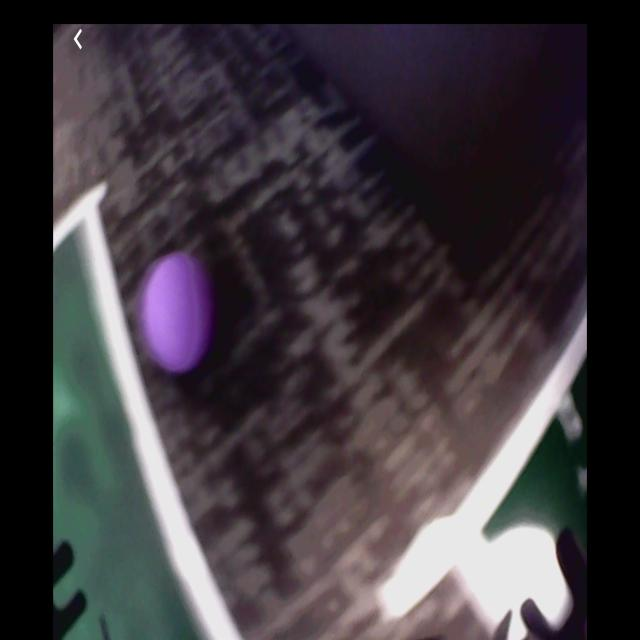ball: (141, 246, 211, 378)
